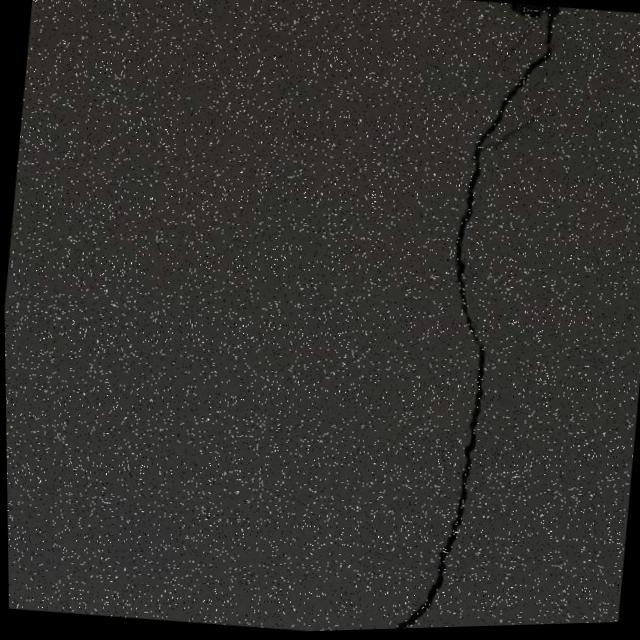Crack: (364, 0, 572, 632)
